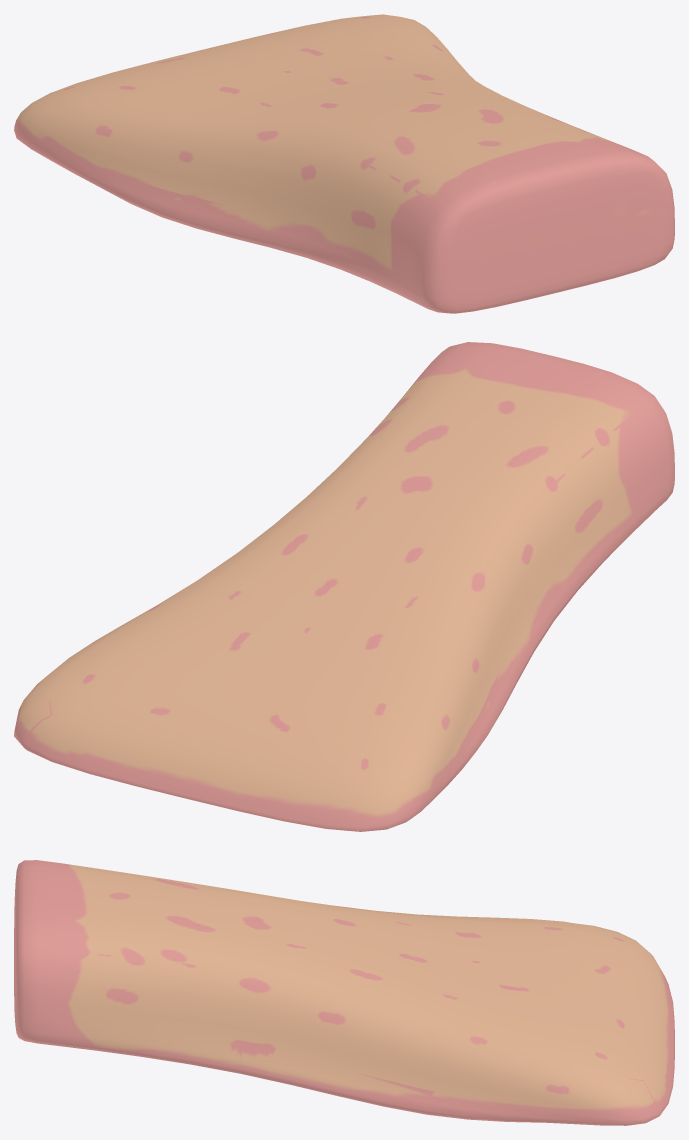
Rendered from barth.glb.
3 views of the same model, one above another, from view 1: azimuth 30°, elevation 25°; view 2: azimuth 150°, elevation 25°; view 3: azimuth 270°, elevation 25° (orthographic). The views are drawn at different scales.
Visible parts, largest first — view 1: Cube.004; view 2: Cube.004; view 3: Cube.004.
Part boxes in pixels (box(x1,y1,x2,y2)): Cube.004: box(14, 14, 674, 313); Cube.004: box(14, 342, 674, 831); Cube.004: box(14, 860, 674, 1125).
Size of the model in its own units: 1.68 by 0.7418 by 2.75.
Materials: 1 (1 with a texture image).
